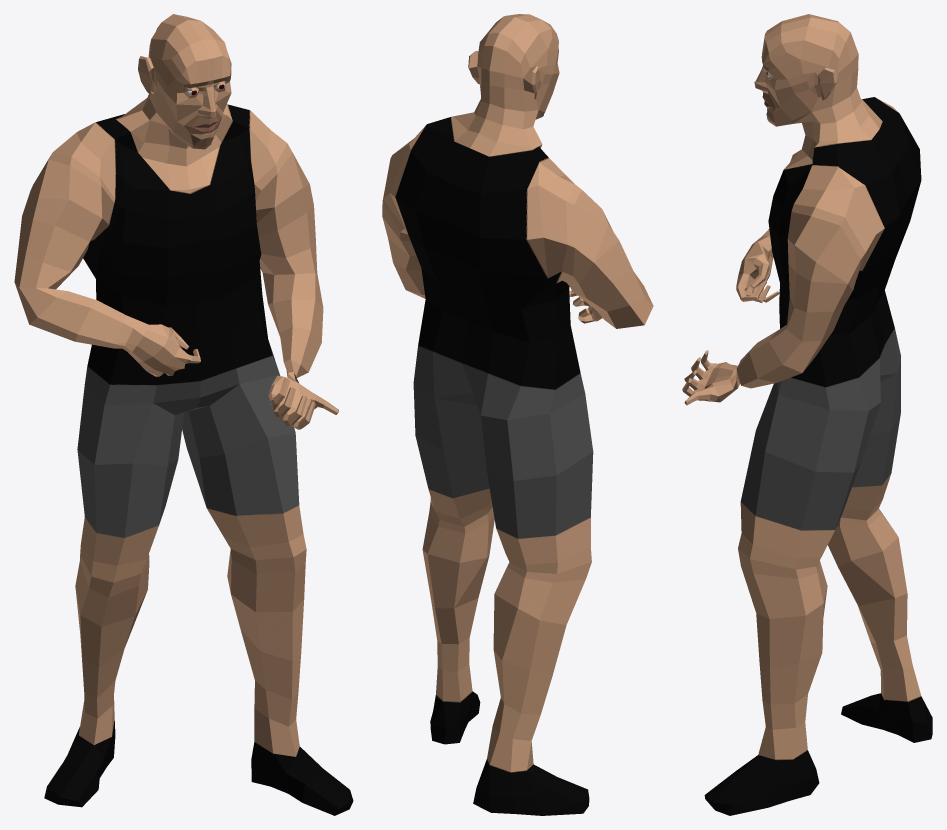
File: PlayerIdle(40).obj
The picture shows the model from 3 angles, left to right: view 1: azimuth 30°, elevation 25°; view 2: azimuth 150°, elevation 25°; view 3: azimuth 270°, elevation 25°; orthographic projection. The views are drawn at different scales.
Visible parts, largest first — view 1: Plane002; view 2: Plane002; view 3: Plane002.
Part boxes in pixels (<box>): Plane002: <box>14,14,353,815</box>; Plane002: <box>382,14,653,815</box>; Plane002: <box>682,14,932,815</box>.
Size of the model in its own units: 675 by 1806 by 553.
